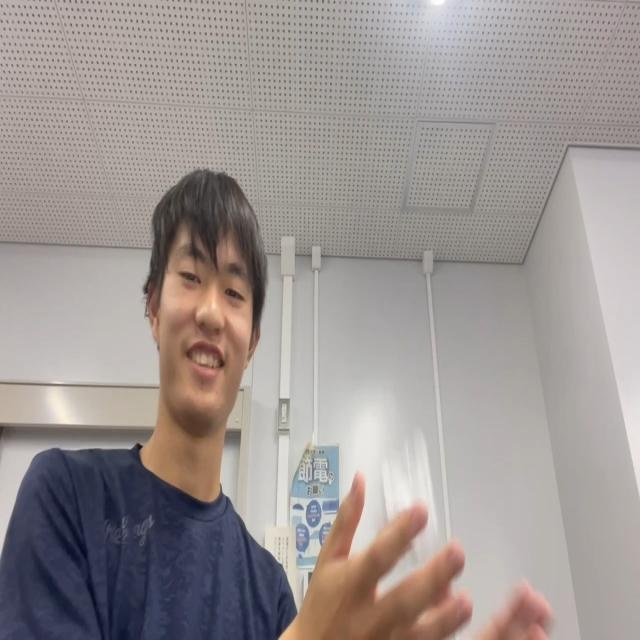paper: (380, 426, 440, 572)
